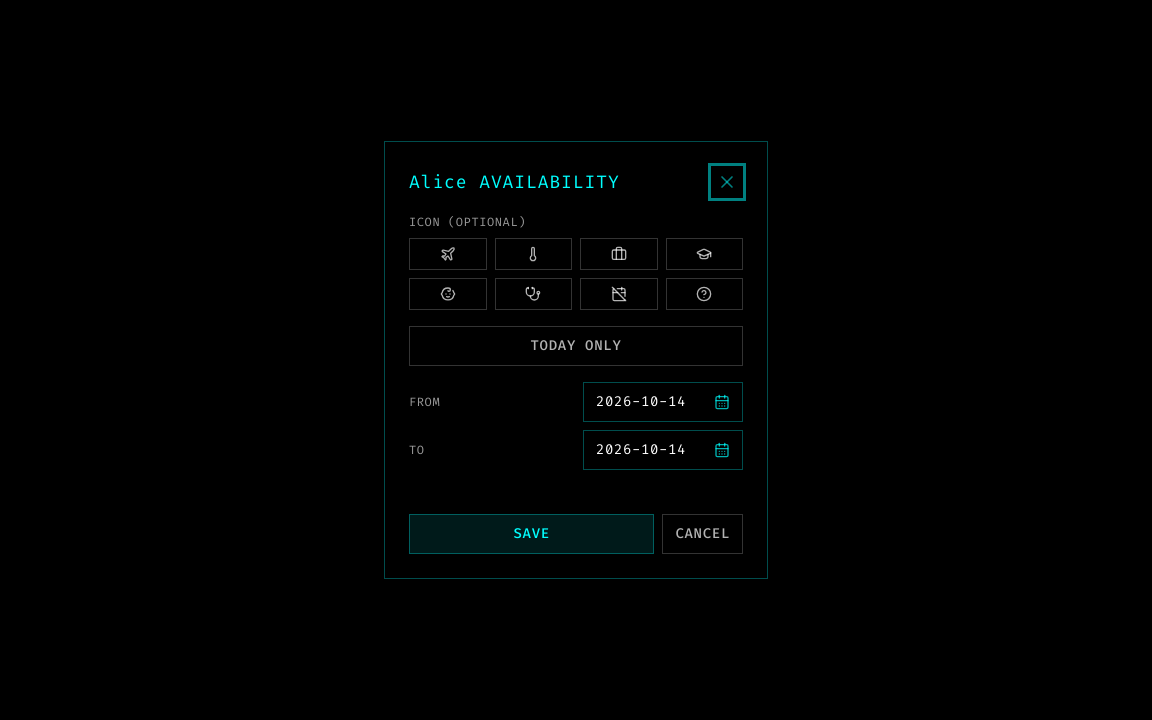
Test case: UnavailabilityDialog › should show the VACATION tooltip on focus
Focus the button named "VACATION" at (448, 254), box [409,238,486,270]
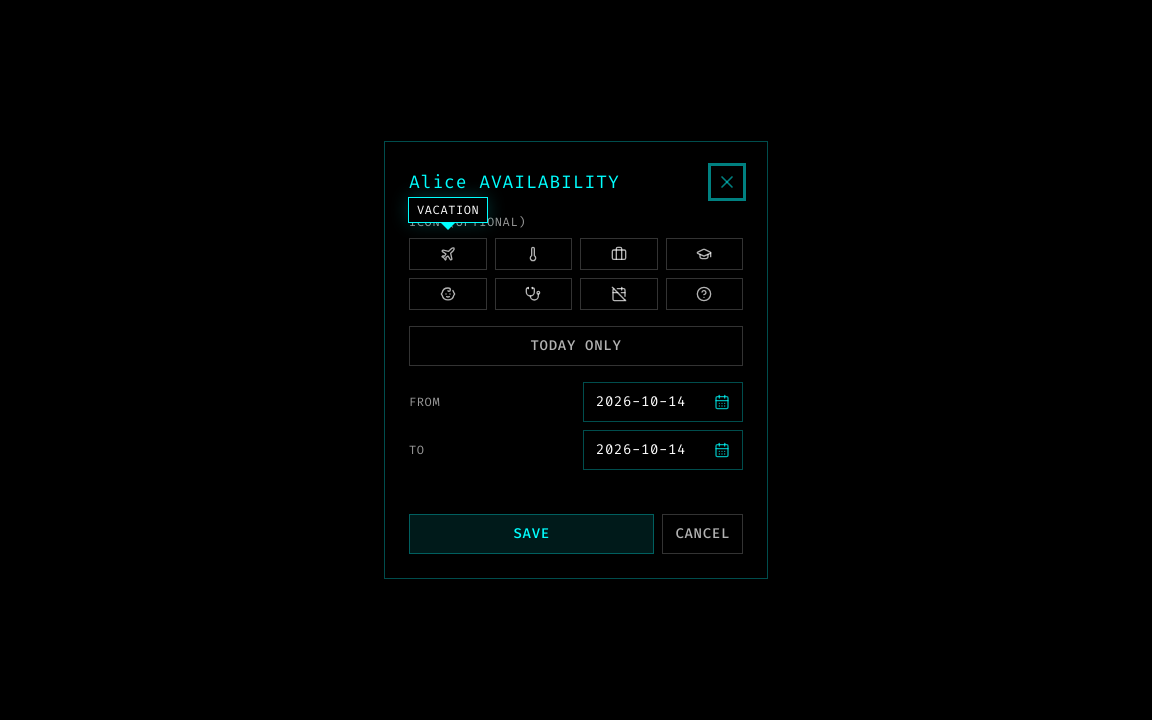
Expected: the tooltip reads "VACATION", [417,202,479,218]
